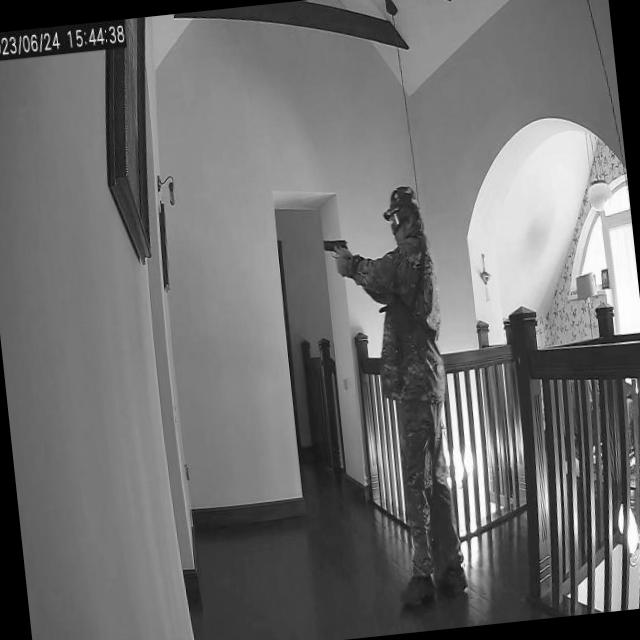gun: (322, 230, 352, 272)
person with a gun: (318, 178, 473, 616)
